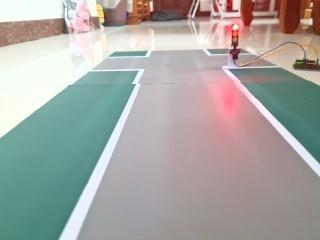red: (228, 19, 242, 55)
